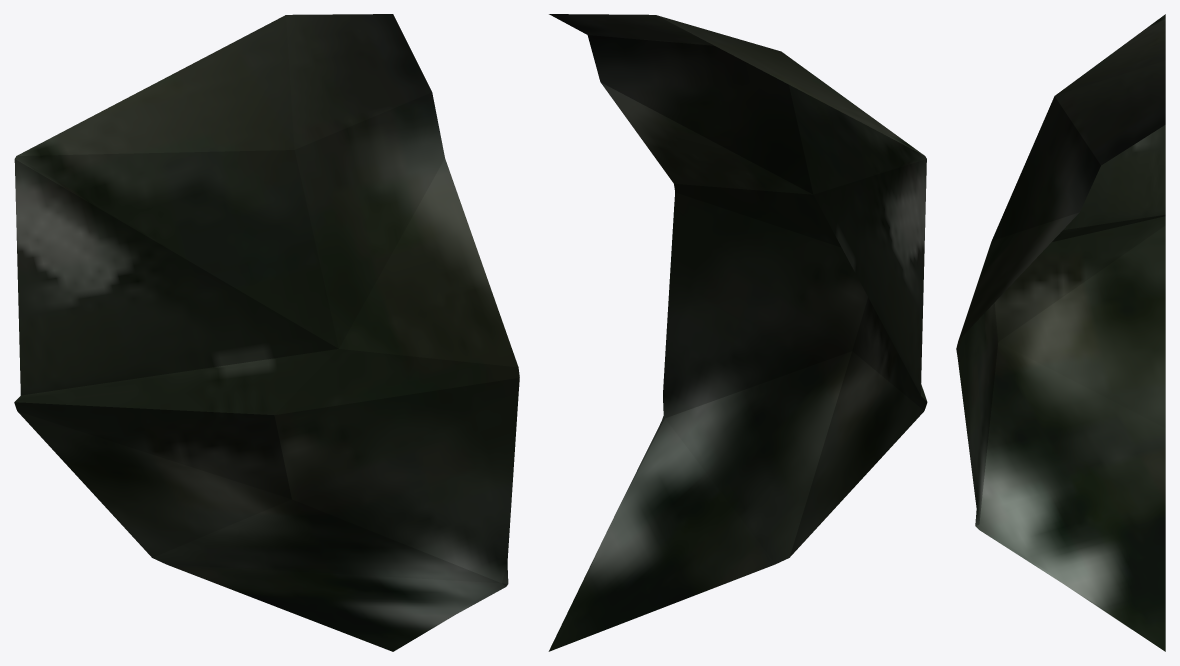
The picture shows the model from 3 angles, left to right: view 1: azimuth 30°, elevation 25°; view 2: azimuth 150°, elevation 25°; view 3: azimuth 270°, elevation 25°; orthographic projection. The views are drawn at different scales.
Size of the model in its own units: 0.1669 by 0.2791 by 0.0966.
Materials: 1 (1 with a texture image).
